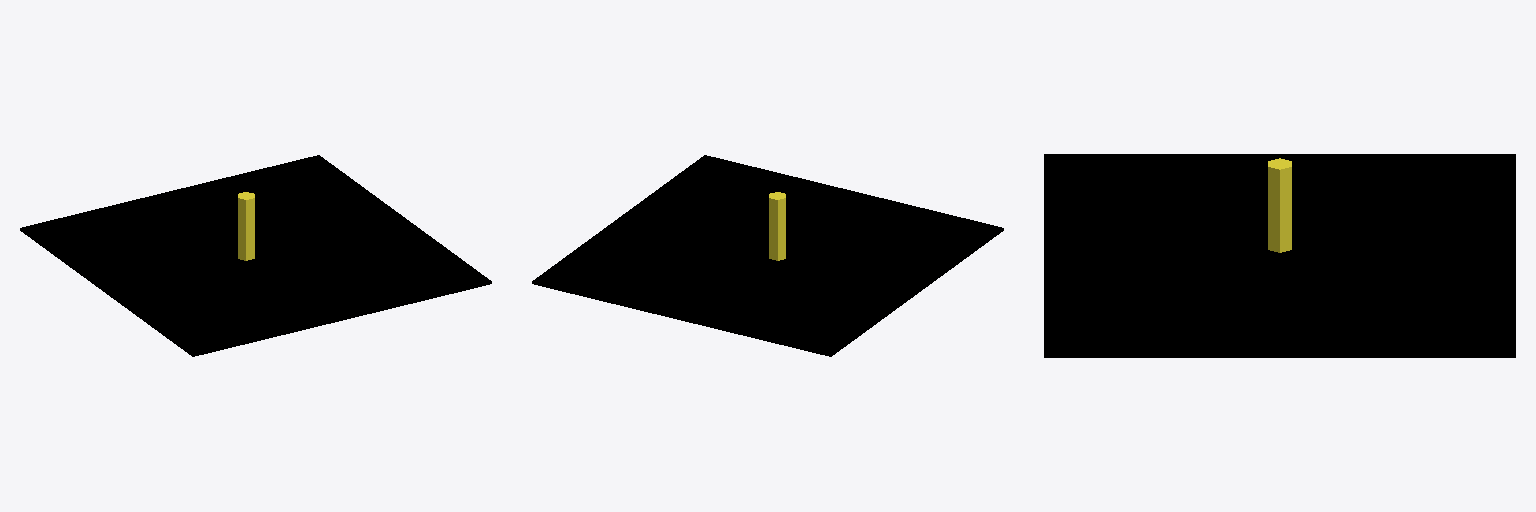
The robot description file, URDF, robot "ground_skeleton":
<?xml version="1.0"?>
<robot name="ground_skeleton">
    <material name="blue">
        <color rgba="0 0 0.8 1"/>
    </material>
    <material name="white">
        <color rgba="1 1 1 1"/>
    </material>
    <material name="black">
        <color rgba="0 0 0 1"/>
    </material>
    <link name="world" />
    <link name="world_frame">
        <inertial>
            <mass value="0.000000001" />
            <origin xyz="0 0 0" rpy="0 0 0" />
            <inertia ixx="0.000000001" ixy="0.000000001" ixz="0.000000001" iyy="1.0" iyz="0" izz="1.0" />
        </inertial>
    </link>
    <link name="ground">
         <collision>
            <origin xyz= "0 0 0" rpy="0. 0 0" />
            <geometry>
                <box size="10 10 0.1" />
            </geometry>
        </collision>
         <visual name="visual">
            <origin xyz = "0 0 0" rpy="0. 0 0" />
            <geometry>
                <box size="10 10 0.1" />
            </geometry>
            <material name="black"/>
        </visual>
        <inertial>
            <mass value="1.0" />
            <origin xyz="0 0 0" rpy="0 0 0" />
            <inertia ixx="1.0" ixy="0" ixz="0" iyy="1.0" iyz="0" izz="1.0" />
        </inertial>
    </link>
    <link name="ground_link">
         <collision>
            <origin xyz= "-0.0 -0.0 0" rpy="0. 0. 0.5236" />
            <geometry>
        	    <mesh filename="meshes/hexa_column3.obj"/>
      	    </geometry>
        </collision>
         <visual name="visual">
            <origin xyz = "-0.0 -0.0 0" rpy="0. 0.  0.5236" />
            <geometry>
        	    <mesh filename="meshes/hexa_column3.obj"/>
            </geometry>
        </visual>
        <inertial>
            <mass value="1.0" />
            <origin xyz="0 0 0" rpy="0 0 0" />
            <inertia ixx="1.0" ixy="0" ixz="0" iyy="1.0" iyz="0" izz="1.0" />
        </inertial>
    </link>
    <joint name="ground_joint" type="fixed">
        <origin xyz="-0.33 0.0 0.0" rpy="0. 0. 0." />
        <parent link="world" />
        <child link="ground_link" />
    </joint>
    <joint name="frame_joint" type="fixed">
        <origin xyz="0 0 0" rpy="0 0 0" />
        <parent link="world" />
        <child link="world_frame" />
    </joint>
    <joint name="ground_flat_joint" type="fixed">
        <origin xyz="0.0 0.0 0.0" rpy="0 0.0 0.0" />
        <parent link="world" />
        <child link="ground" />
    </joint>
</robot>

--- Facts derived from the render (not from the file) ---
Views: 3 orthographic renders of the robot side by side, from view 1: azimuth 30°, elevation 25°; view 2: azimuth 150°, elevation 25°; view 3: azimuth 270°, elevation 25°.
Model ground_skeleton with 4 links and 3 joints (3 fixed), rooted at world, posed all joints at 0.
Visible links, largest first — view 1: ground, ground_link; view 2: ground, ground_link; view 3: ground, ground_link.
Boxes of the visible links, x1,y1,x2,y2 form: ground: (20, 155, 491, 356); ground_link: (238, 192, 254, 260); ground: (532, 155, 1003, 356); ground_link: (769, 192, 785, 260); ground: (1044, 154, 1515, 357); ground_link: (1268, 158, 1291, 252).
Size in the robot's own frame: 10 by 10 by 2.05 metres.
Meshes: 1 distinct files referenced, 1 mesh visuals loaded (1 OBJ).